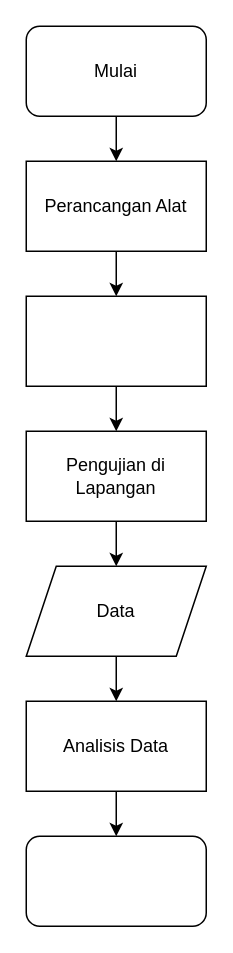
The diagram is 233 pixels wide and 953 high, and some of its shapes have lost their labels. The shapes that lost their labels are listed below. From the top down, each one's centre as x and y in pixels, then its label:
(x=115, y=340): Perakitan Alat
(x=115, y=880): Selesai
